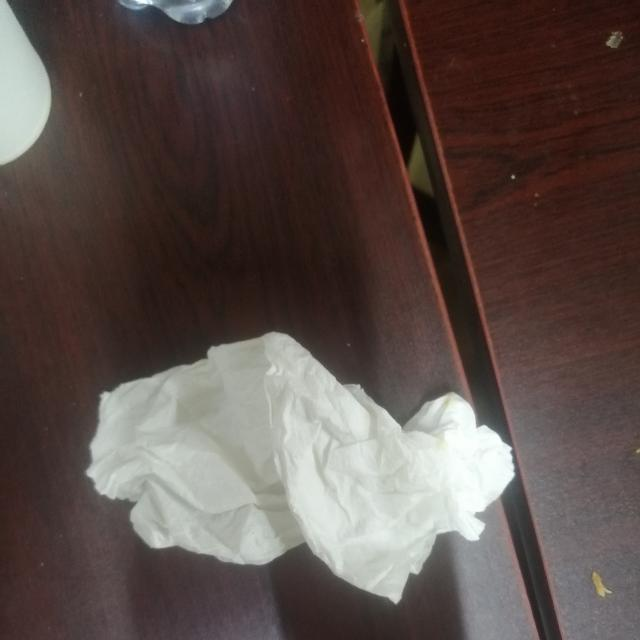kitchen paper: (76, 316, 534, 608)
